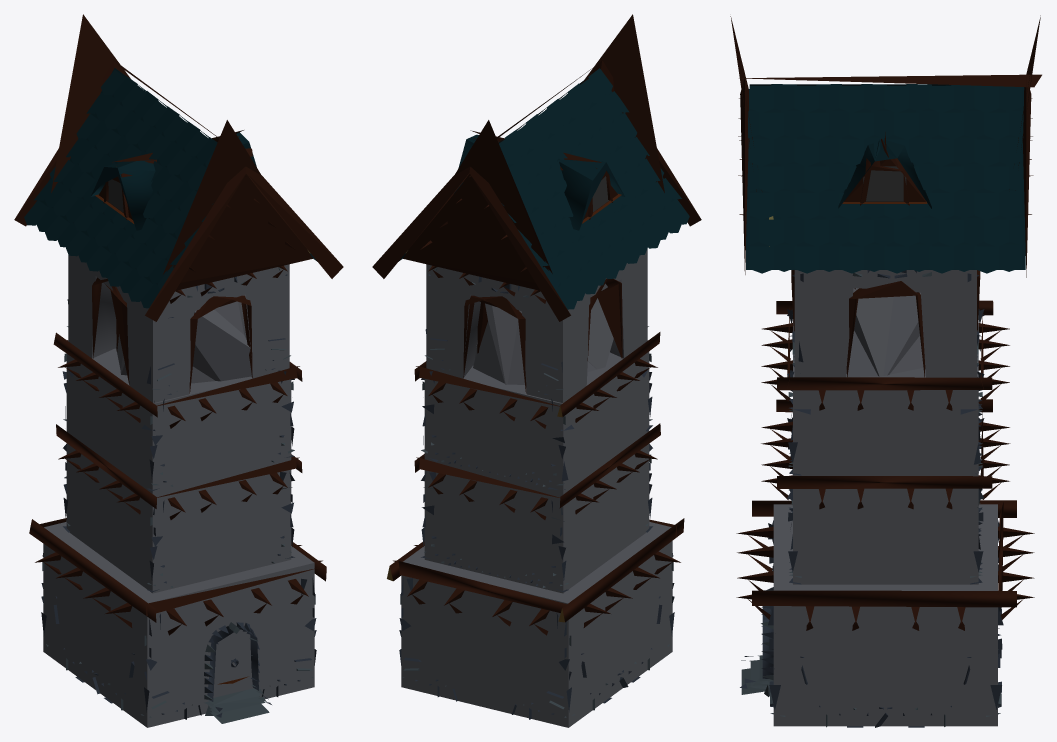
Rendered from Bell_Tower.fbx.
3 views of the same model, side by side, from view 1: azimuth 30°, elevation 25°; view 2: azimuth 150°, elevation 25°; view 3: azimuth 270°, elevation 25° (orthographic). The views are drawn at different scales.
Visible parts, largest first — view 1: High_Bell_Tower, Low_Bell_Tower; view 2: High_Bell_Tower, Low_Bell_Tower; view 3: High_Bell_Tower, Low_Bell_Tower.
Part boxes in pixels (<box>): High_Bell_Tower: <box>14,58,343,727</box>; Low_Bell_Tower: <box>51,14,312,666</box>; High_Bell_Tower: <box>372,60,701,727</box>; Low_Bell_Tower: <box>403,14,664,384</box>; High_Bell_Tower: <box>736,74,1041,727</box>; Low_Bell_Tower: <box>730,15,1040,377</box>.
Size of the model in its own units: 194 by 512 by 221.
